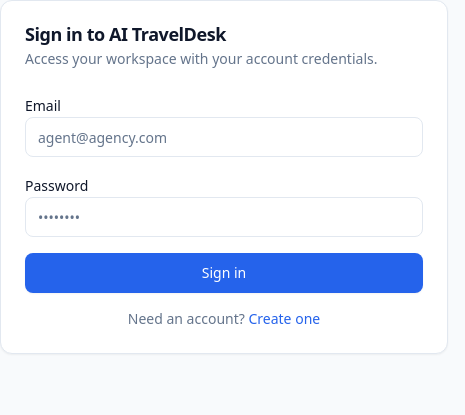
Test: Phase 1 Frontend Auth & Route Protection › validates email and password fields on LoginForm
What coordinates should you click on to do the following:
click the button "Sign in"
I would click on:
 (224, 273)
Its box is [25, 253, 423, 293].
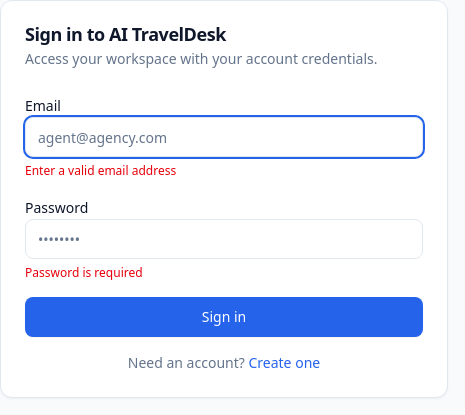
Check: the text "Enter a valid email address" is shown, box [25, 162, 176, 179]
Check: the text "Password is required" is shown, box [25, 264, 143, 281]
